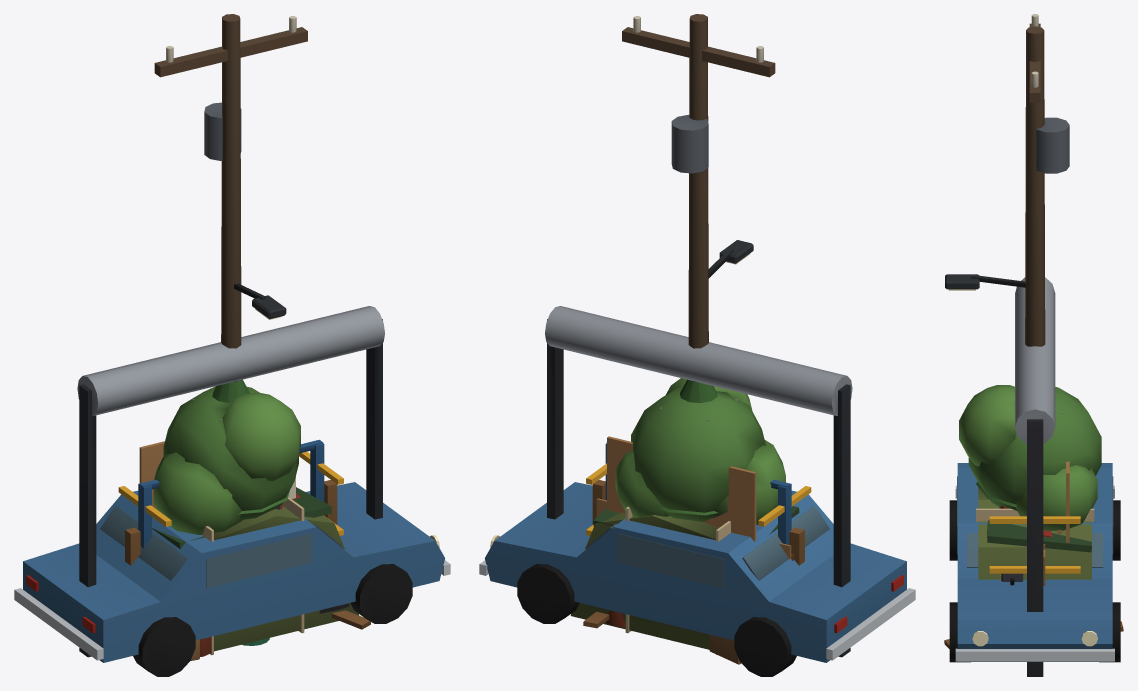
Rendered from env.glb.
The picture shows the model from 3 angles, left to right: view 1: azimuth 30°, elevation 25°; view 2: azimuth 150°, elevation 25°; view 3: azimuth 270°, elevation 25°; orthographic projection. The views are drawn at different scales.
Visible parts, largest first — view 1: env_car_mesh, env_shutter_mesh, env_tree_round_mesh, env_power_pole_mesh, env_tarp_machine_mesh, env_timber_bay_mesh, env_fence_panel_mesh, env_junk_pile_mesh, env_dumpster_mesh, env_workbench_mesh, env_tree_pine_mesh, env_lamp_post_mesh; view 2: env_car_mesh, env_shutter_mesh, env_tree_round_mesh, env_power_pole_mesh, env_tarp_machine_mesh, env_workbench_mesh, env_timber_bay_mesh, env_junk_pile_mesh, env_fence_panel_mesh, env_tree_pine_mesh, env_lamp_post_mesh; view 3: env_car_mesh, env_tree_round_mesh, env_shutter_mesh, env_power_pole_mesh, env_tarp_machine_mesh, env_dumpster_mesh, env_timber_bay_mesh, env_lamp_post_mesh, env_workbench_mesh, env_diesel_tank_mesh.
Part boxes in pixels (x1=…): env_car_mesh: x1=14, y1=482, x2=450, y2=676; env_shutter_mesh: x1=77, y1=306, x2=384, y2=657; env_tree_round_mesh: x1=153, y1=386, x2=300, y2=534; env_power_pole_mesh: x1=154, y1=14, x2=307, y2=381; env_tarp_machine_mesh: x1=202, y1=497, x2=358, y2=655; env_timber_bay_mesh: x1=118, y1=439, x2=343, y2=547; env_fence_panel_mesh: x1=125, y1=480, x2=337, y2=565; env_junk_pile_mesh: x1=190, y1=603, x2=370, y2=660; env_dumpster_mesh: x1=152, y1=487, x2=331, y2=548; env_workbench_mesh: x1=139, y1=441, x2=164, y2=508; env_tree_pine_mesh: x1=212, y1=379, x2=289, y2=514; env_lamp_post_mesh: x1=234, y1=283, x2=286, y2=319; env_car_mesh: x1=479, y1=482, x2=915, y2=676; env_shutter_mesh: x1=545, y1=306, x2=852, y2=657; env_tree_round_mesh: x1=615, y1=378, x2=785, y2=524; env_power_pole_mesh: x1=622, y1=14, x2=775, y2=382; env_tarp_machine_mesh: x1=570, y1=507, x2=730, y2=654; env_workbench_mesh: x1=607, y1=436, x2=756, y2=541; env_timber_bay_mesh: x1=586, y1=442, x2=811, y2=544; env_junk_pile_mesh: x1=583, y1=610, x2=741, y2=664; env_fence_panel_mesh: x1=592, y1=480, x2=804, y2=565; env_tree_pine_mesh: x1=660, y1=379, x2=717, y2=515; env_lamp_post_mesh: x1=708, y1=240, x2=753, y2=278; env_car_mesh: x1=949, y1=463, x2=1120, y2=662; env_tree_round_mesh: x1=959, y1=385, x2=1101, y2=530; env_shutter_mesh: x1=1015, y1=277, x2=1055, y2=676; env_power_pole_mesh: x1=1025, y1=14, x2=1069, y2=346; env_tarp_machine_mesh: x1=976, y1=487, x2=1094, y2=579; env_dumpster_mesh: x1=987, y1=520, x2=1091, y2=552; env_timber_bay_mesh: x1=989, y1=516, x2=1080, y2=573; env_lamp_post_mesh: x1=945, y1=274, x2=1026, y2=290; env_workbench_mesh: x1=1066, y1=461, x2=1069, y2=542; env_diesel_tank_mesh: x1=1000, y1=530, x2=1052, y2=585.
Size of the model in its own units: 4.31 by 7.22 by 1.97.
